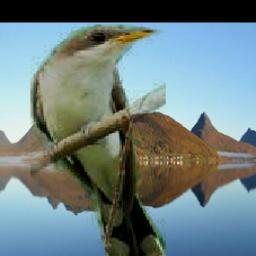Cuckoo: (30, 24, 166, 256)
